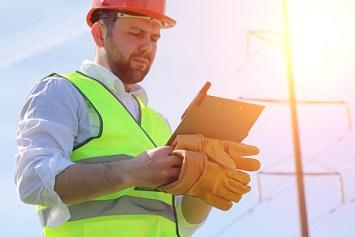helmet: (85, 1, 176, 31)
